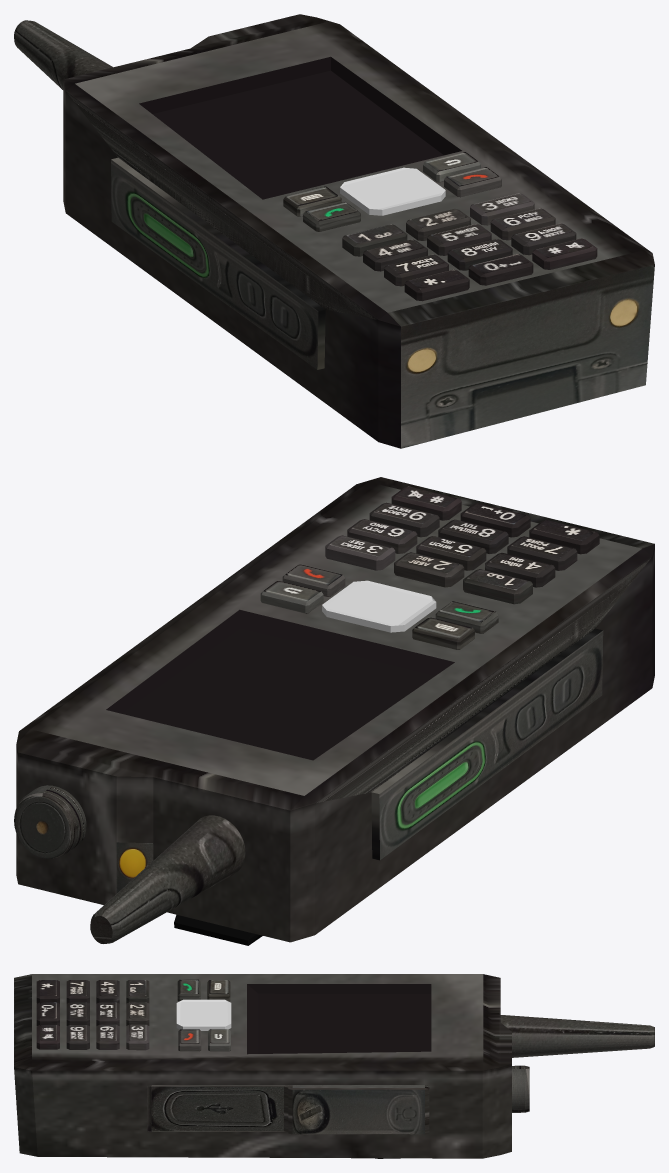
File: рация.fbx
3 renders of one model, top to bottom at view 1: azimuth 30°, elevation 25°; view 2: azimuth 150°, elevation 25°; view 3: azimuth 270°, elevation 25°, orthographic. The views are drawn at different scales.
Parts seen in each view (by area): view 1: Cube, Куб.005, Куб.016, Куб.015, Куб.017, Куб, Куб.011, Куб.008, Куб.013, Куб.007, Куб.014, Куб.009 (+6 smaller); view 2: Cube, Куб.005, Куб.007, Куб.008, Куб, Куб.011, Куб.010, Куб.009, Куб.012, Куб.014, Куб.013, Куб.017 (+7 smaller); view 3: Cube, Куб.005, Куб.008, Куб.011, Куб.014, Куб.017, Куб.010, Куб.012, Куб.015, Куб, Куб.009, Куб.013 (+6 smaller).
Part boxes in pixels (box(x1,y1,x2,y2)): Cube: box(14, 14, 654, 448); Куб.005: box(340, 167, 445, 215); Куб.016: box(468, 254, 533, 285); Куб.015: box(404, 269, 469, 301); Куб.017: box(532, 238, 597, 269); Куб: box(342, 224, 407, 256); Куб.011: box(490, 208, 555, 240); Куб.008: box(470, 193, 534, 225); Куб.013: box(447, 239, 512, 270); Куб.007: box(406, 208, 470, 240); Куб.014: box(511, 223, 576, 255); Куб.009: box(363, 239, 427, 271); Cube: box(14, 477, 654, 943); Куб.005: box(322, 580, 436, 632); Куб.007: box(394, 552, 464, 587); Куб.008: box(325, 535, 395, 570); Куб: box(463, 569, 532, 604); Куб.011: box(347, 519, 417, 553); Куб.010: box(416, 536, 486, 570); Куб.009: box(485, 552, 555, 587); Куб.012: box(507, 536, 577, 570); Куб.014: box(369, 502, 439, 537); Куб.013: box(438, 519, 508, 553); Куб.017: box(391, 486, 461, 520); Cube: box(14, 974, 654, 1158); Куб.005: box(176, 999, 231, 1030); Куб.008: box(126, 1024, 149, 1050); Куб.011: box(96, 1024, 119, 1049); Куб.014: box(66, 1025, 89, 1049); Куб.017: box(36, 1025, 59, 1049); Куб.010: box(96, 1002, 119, 1025); Куб.012: box(66, 980, 89, 1003); Куб.015: box(36, 980, 59, 1003); Куб: box(126, 980, 149, 1003); Куб.009: box(96, 980, 119, 1003); Куб.013: box(66, 1002, 89, 1025).
Bounding box in the file's own units: 182 × 115 × 479.
Materials: 24 (22 with a texture image).
